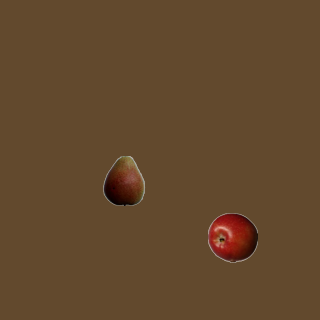Apple Braeburn: (207, 212, 257, 262)
Pear Forelle: (98, 155, 148, 205)
